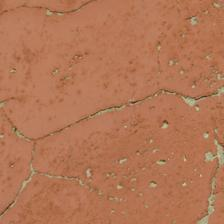Crack: (72, 0, 224, 52), (90, 0, 139, 98), (58, 50, 129, 71)
